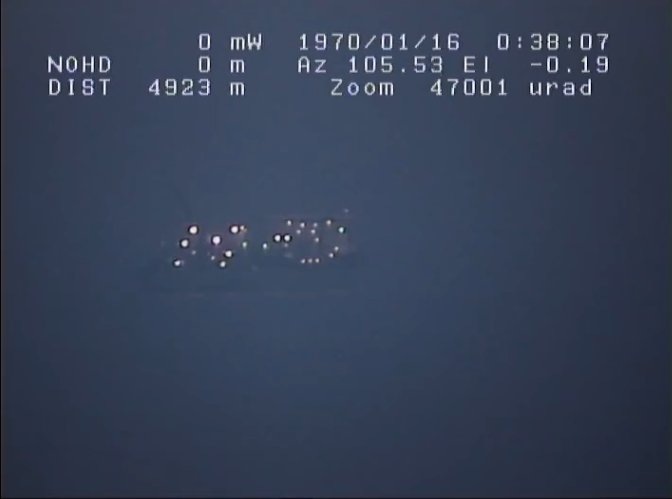CARGO_SHIPS: (121, 174, 371, 306)
